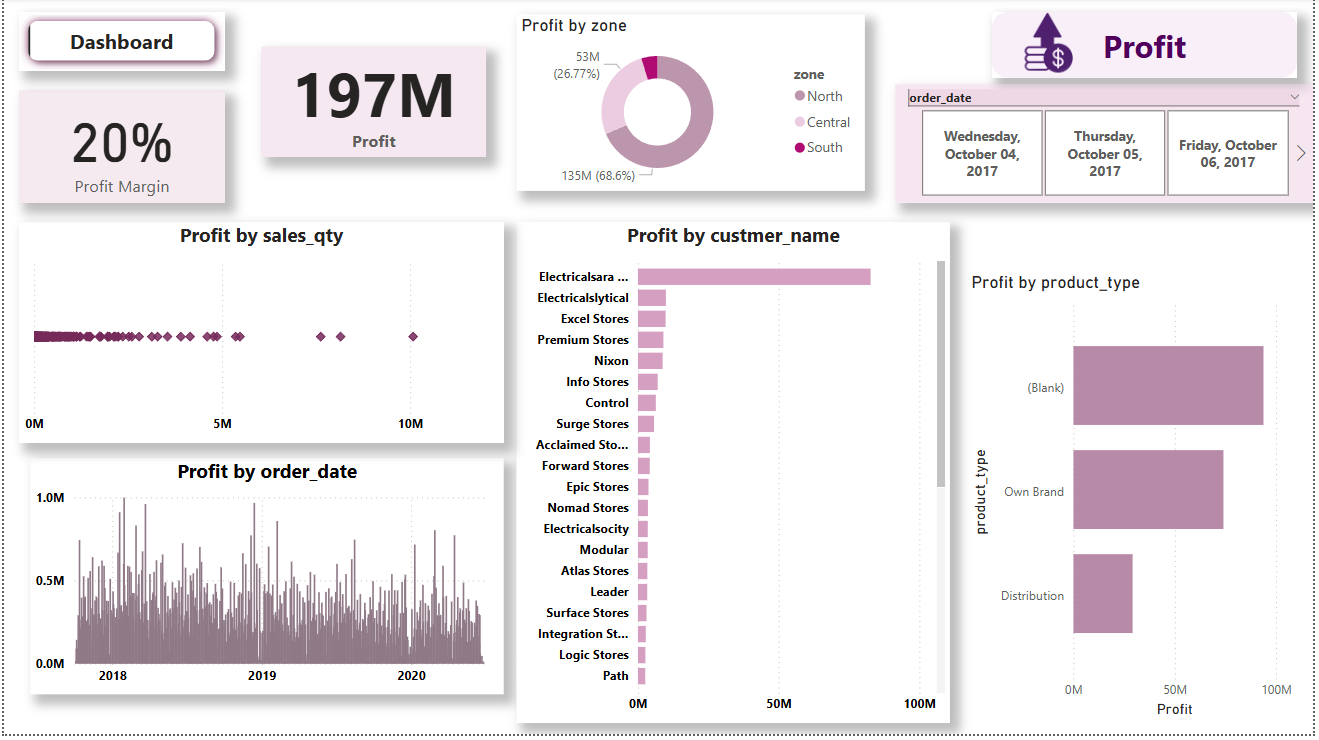

What the dashboard file says about the page in this screenshot:
{"tool":"powerbi","page":{"name":"Profit","canvas":[1280,720],"ordinal":1},"visuals":[{"type":"barChart","fields":{"Category":["sales products.product_type"],"Y":["BaseMeasures.Profit"]},"box":[941.6,267.8,324.1,441.4],"z":0},{"type":"shape","box":[966,13.5,299.6,64.8],"z":1000},{"type":"card","fields":{"Values":["BaseMeasures.Profit Margin"]},"box":[14.7,90.5,201.8,110.1],"z":2000},{"type":"card","fields":{"Values":["BaseMeasures.Profit"]},"box":[251.9,47.7,220.1,107.6],"z":3000},{"type":"columnChart","fields":{"Category":["sales transactions.order_date"],"Y":["BaseMeasures.Profit"]},"box":[25.7,450,463.5,231.1],"z":4000},{"type":"donutChart","fields":{"Category":["sales markets.zone"],"Y":["BaseMeasures.Profit"]},"box":[501.4,15.9,341.2,172.4],"z":5000},{"type":"clusteredBarChart","fields":{"Y":["BaseMeasures.Profit"],"Category":["sales customers.custmer_name"]},"box":[501.4,218.9,424.3,490.4],"z":6000},{"type":"scatterChart","fields":{"X":["BaseMeasures.Profit"],"Category":["sales transactions.sales_qty"]},"box":[14.7,218.9,474.5,216.4],"z":7000},{"type":"slicer","fields":{"Values":["sales transactions.order_date"]},"box":[871.9,84.4,408.4,116.2],"z":8000},{"type":"pageNavigator","box":[14.7,13.5,201.8,57.5],"z":9000},{"type":"image","box":[988,9.8,68.5,68.5],"z":10000}]}

Visuals, with their boxes in screenshot pixels (x1, y1, x2, y2), scaled from the page's 1280x720 canvas onto the 1319x740 screenshot:
barChart - sales products.product_type x BaseMeasures.Profit: 970:275:1304:729
shape: 995:14:1304:80
card - BaseMeasures.Profit Margin: 15:93:223:206
card - BaseMeasures.Profit: 260:49:486:160
columnChart - sales transactions.order_date x BaseMeasures.Profit: 26:462:504:700
donutChart - sales markets.zone x BaseMeasures.Profit: 517:16:868:194
clusteredBarChart - BaseMeasures.Profit x sales customers.custmer_name: 517:225:954:729
scatterChart - BaseMeasures.Profit x sales transactions.sales_qty: 15:225:504:447
slicer - sales transactions.order_date: 898:87:1318:206
pageNavigator: 15:14:223:73
image: 1018:10:1089:80
